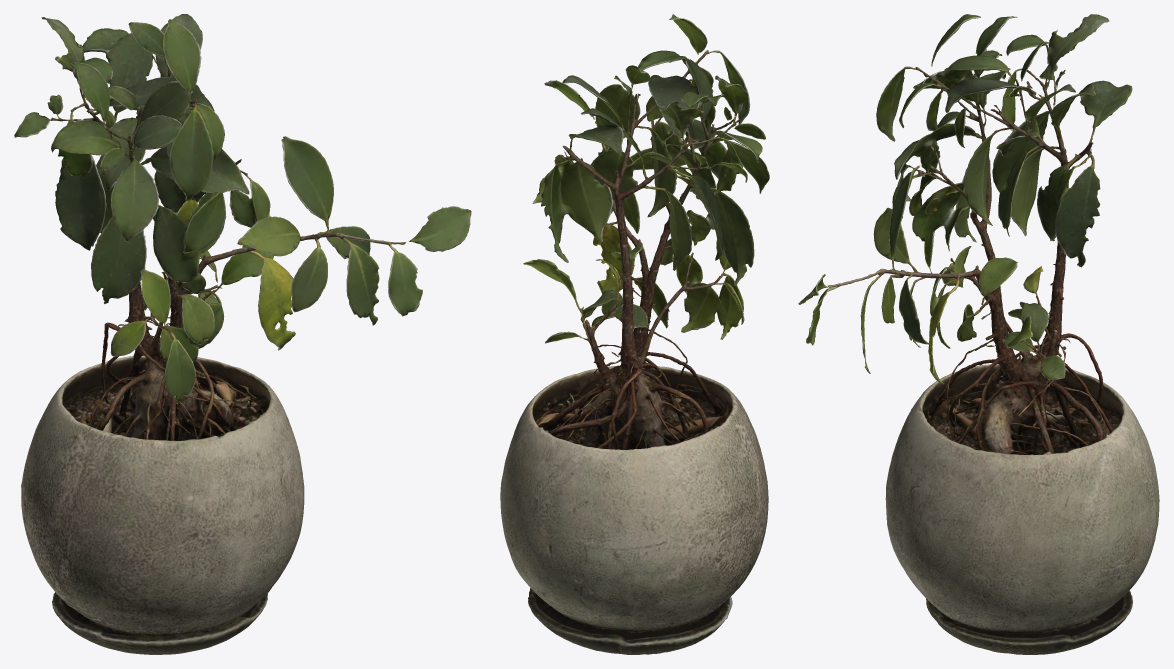
The model's file is potted_plant.glb.
3 renders of one model, left to right at view 1: azimuth 30°, elevation 25°; view 2: azimuth 150°, elevation 25°; view 3: azimuth 270°, elevation 25°, orthographic. The views are drawn at different scales.
Visible parts, largest first — view 1: Object_2; view 2: Object_2; view 3: Object_2.
Part boxes in pixels (<box>): Object_2: <box>14,14,471,654</box>; Object_2: <box>500,14,769,654</box>; Object_2: <box>798,14,1159,654</box>.
Bounding box in the file's own units: 0.2432 × 0.4311 × 0.2356.
Materials: 1 (1 with a texture image).
